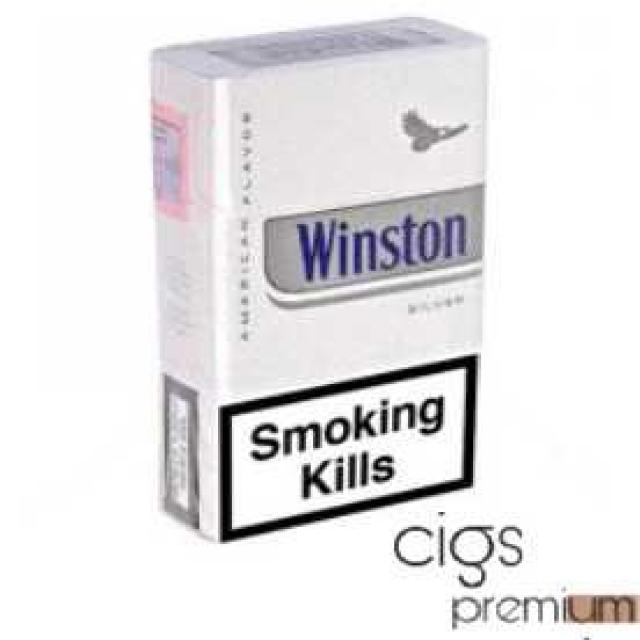winston: (142, 18, 482, 542)
